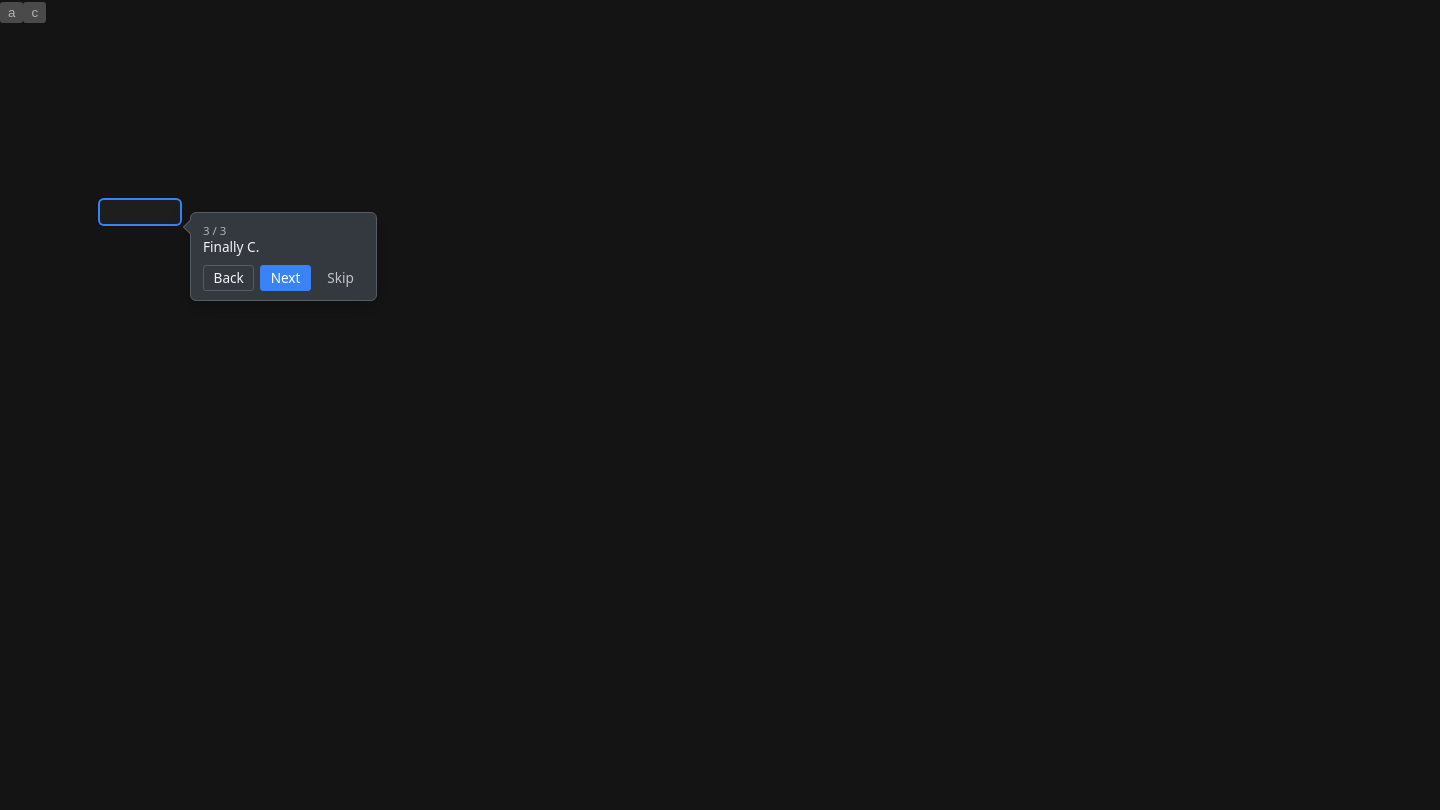
Test case: TourOverlay › goes back to the previous available step
The image size is (1440, 810).
Step 1. Click the button "Back" → (229, 278), box [203, 265, 254, 290]
Wait 400 ms
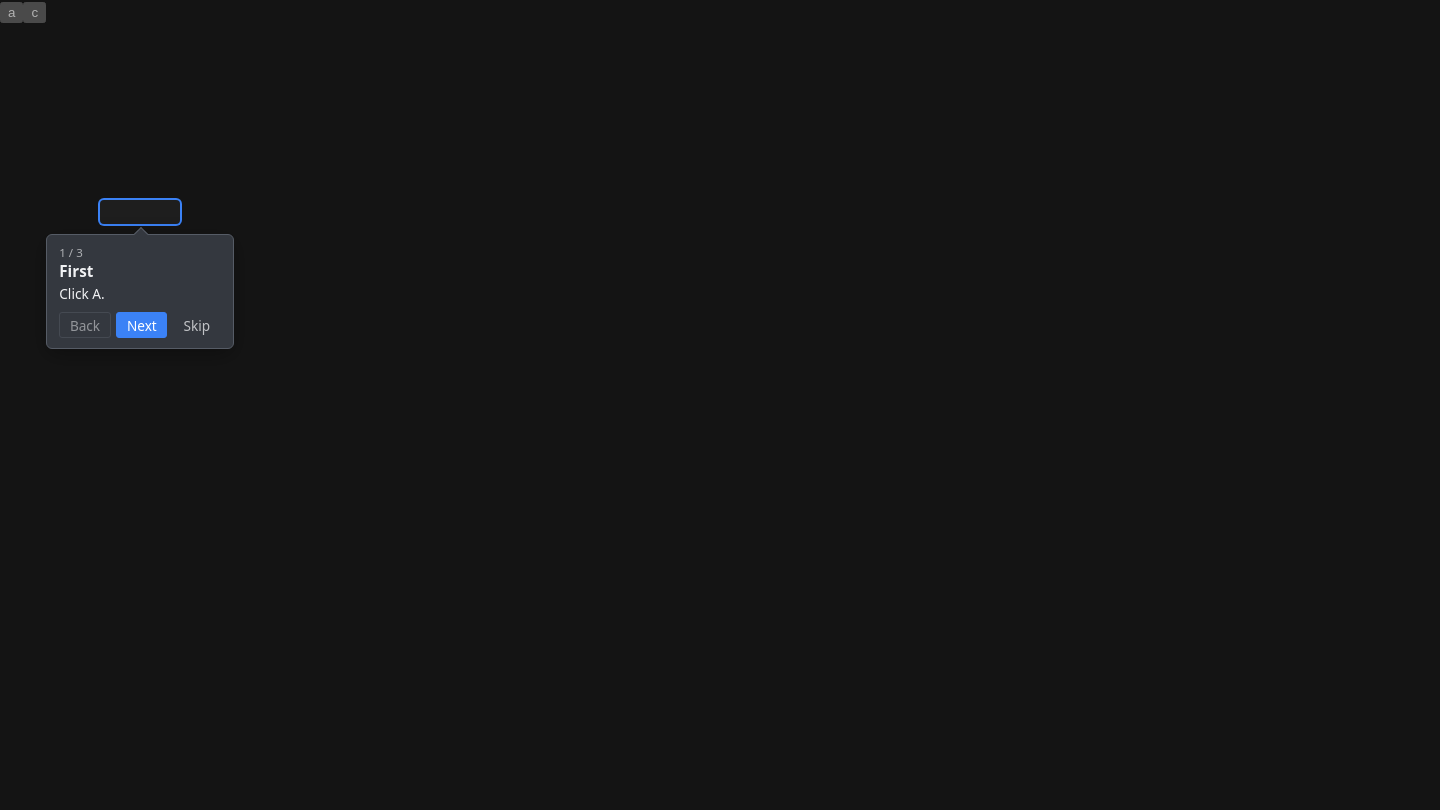
expect the text with test id "tour-text" reads "Click A.": met, box [59, 284, 105, 303]
